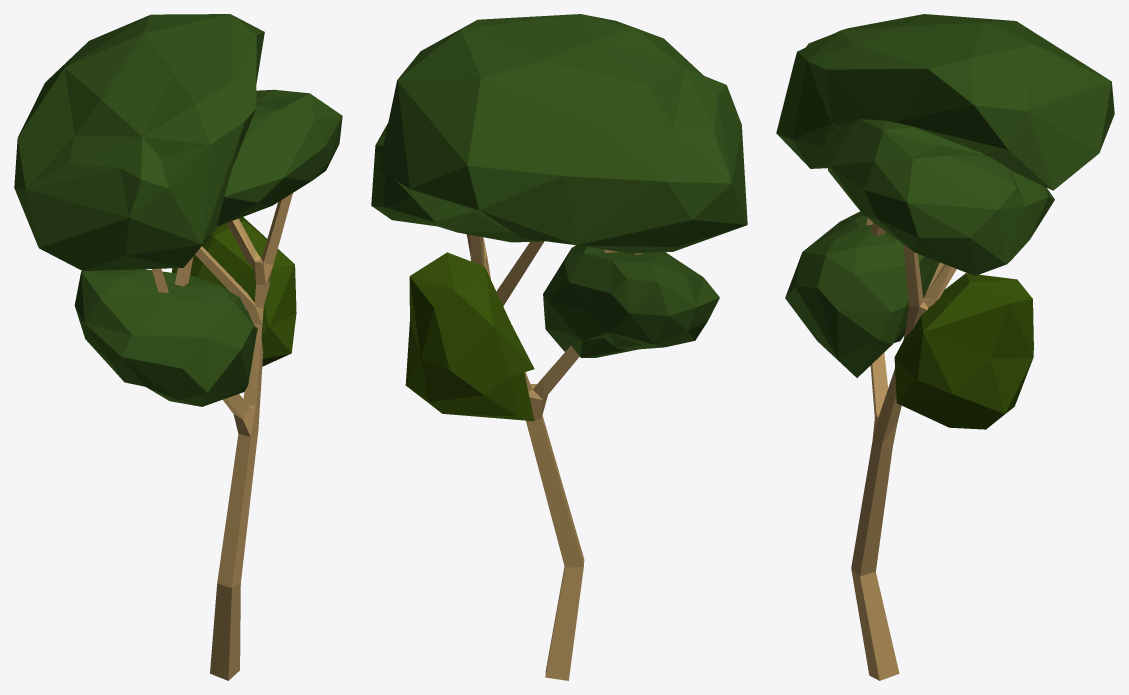
The model's file is Tree.fbx.
3 views of the same model, side by side, from view 1: azimuth 30°, elevation 25°; view 2: azimuth 150°, elevation 25°; view 3: azimuth 270°, elevation 25° (orthographic). The views are drawn at different scales.
Parts seen in each view (by area): view 1: Tree; view 2: Tree; view 3: Tree.
Boxes of the visible parts, box(x1,y1,x2,y2) form: Tree: box(14, 14, 342, 680); Tree: box(371, 14, 747, 680); Tree: box(776, 14, 1114, 680).
Size of the model in its own units: 601 by 1140 by 544.
